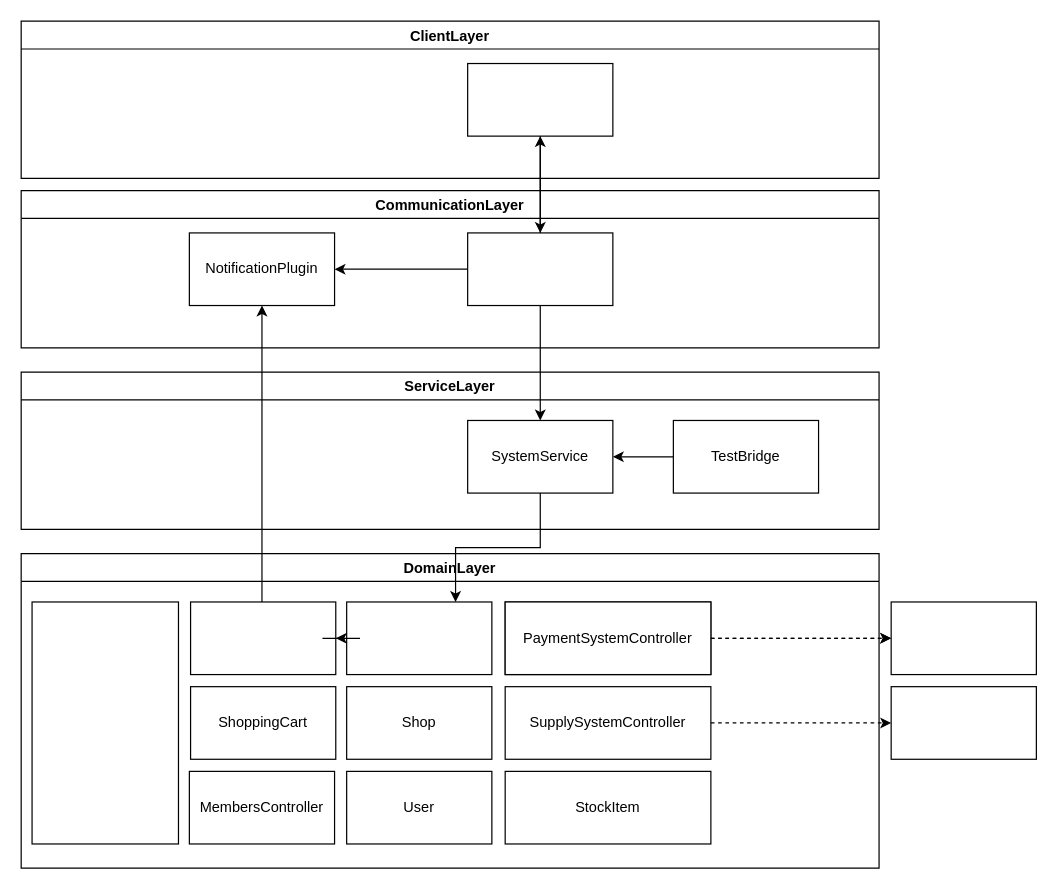
Some shapes in this 1058 by 889 pixel diagram are drawn without their labels. Each missing label, with the centre of its shape:
Client: the point at 539,99
Market: the point at 418,638
PaymentSystem: the point at 963,638
Publisher: the point at 262,638
Security: the point at 104,722
Server: the point at 539,269
SupplySystem: the point at 963,722
